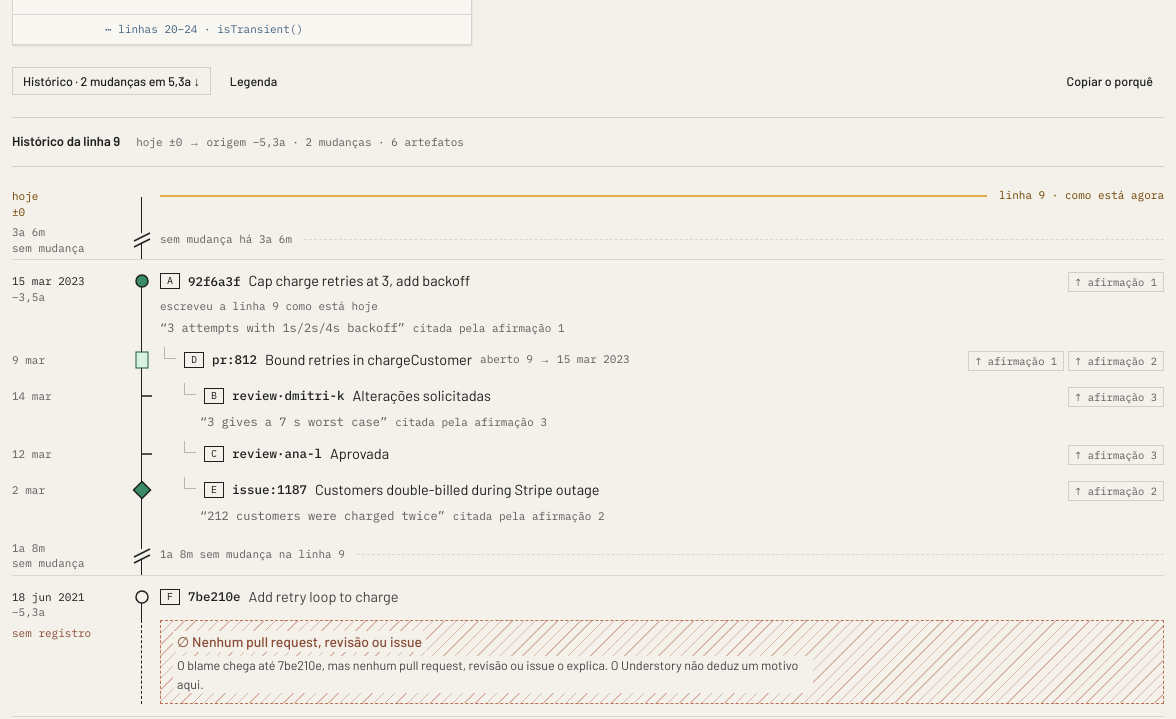
Test: the history in Portuguese › opens a row with its links in Portuguese
(page scrolled)
Click the button with aria-label "D, pull request pr:812, aberto 9 → 15 mar 2023, fonte das af" at (405, 360), box [180, 347, 630, 373]
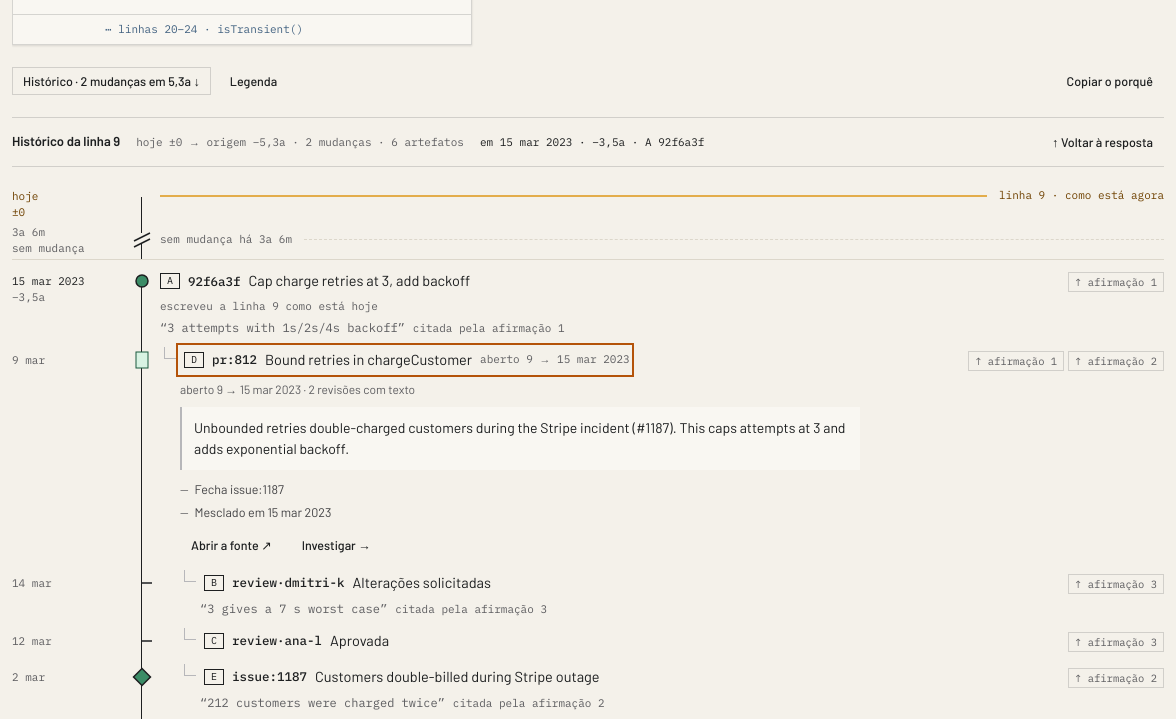
Expected: the button "Investigar →" is shown, [291, 532, 382, 560]
Expected: the link "Abrir a fonte ↗" is shown, [191, 537, 272, 553]
